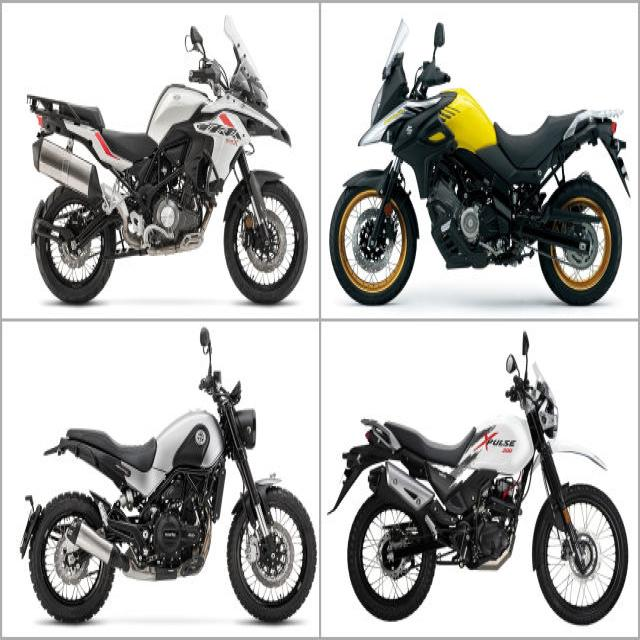motorcycle: (21, 328, 316, 622), (336, 333, 628, 624), (330, 22, 628, 305), (26, 19, 306, 303)
